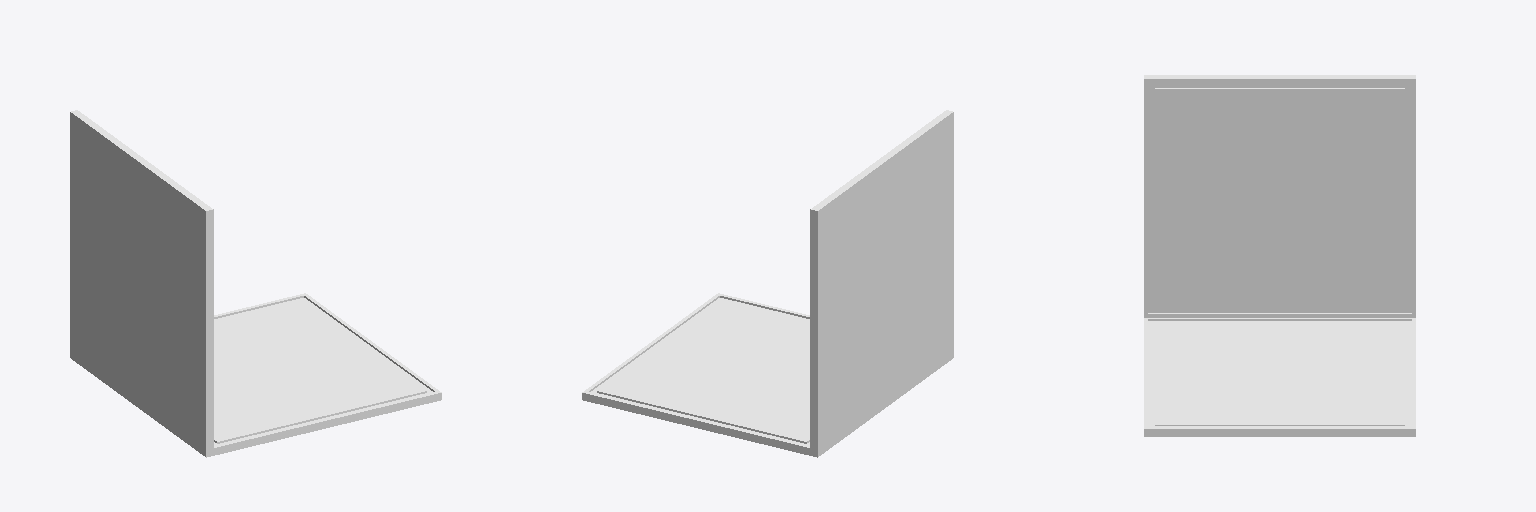
File: WallFloorTile.obj
The picture shows the model from 3 angles: view 1: azimuth 30°, elevation 25°; view 2: azimuth 150°, elevation 25°; view 3: azimuth 270°, elevation 25°; orthographic projection.
Parts seen in each view (by area): view 1: object 1; view 2: object 1; view 3: object 1.
Boxes of the visible parts, <box> form: object 1: <box>70,110,441,457</box>; object 1: <box>582,110,953,457</box>; object 1: <box>1144,75,1415,436</box>.
Bounding box in the file's own units: 12.8 × 12.8 × 12.8.